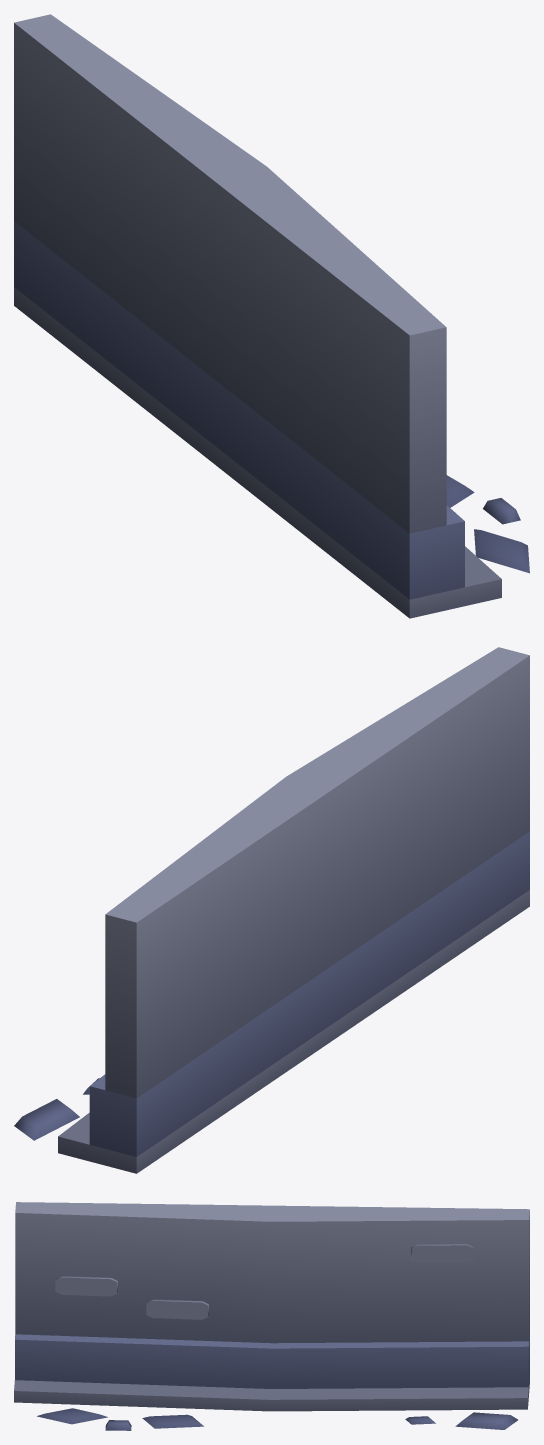
The model's file is template-wall.001_lev1.glb.
The picture shows the model from 3 angles, top to bottom: view 1: azimuth 30°, elevation 25°; view 2: azimuth 150°, elevation 25°; view 3: azimuth 270°, elevation 25°; orthographic projection. The views are drawn at different scales.
Parts seen in each view (by area): view 1: template-wall.001_lev1; view 2: template-wall.001_lev1; view 3: template-wall.001_lev1.
Boxes of the visible parts, left/top/right/bottom form: template-wall.001_lev1: left=14, top=14, right=529, bottom=618; template-wall.001_lev1: left=14, top=647, right=529, bottom=1173; template-wall.001_lev1: left=14, top=1202, right=529, bottom=1430.
Bounding box in the file's own units: 3.63 × 5.3 × 14.28.
1 material, 1 textured.
